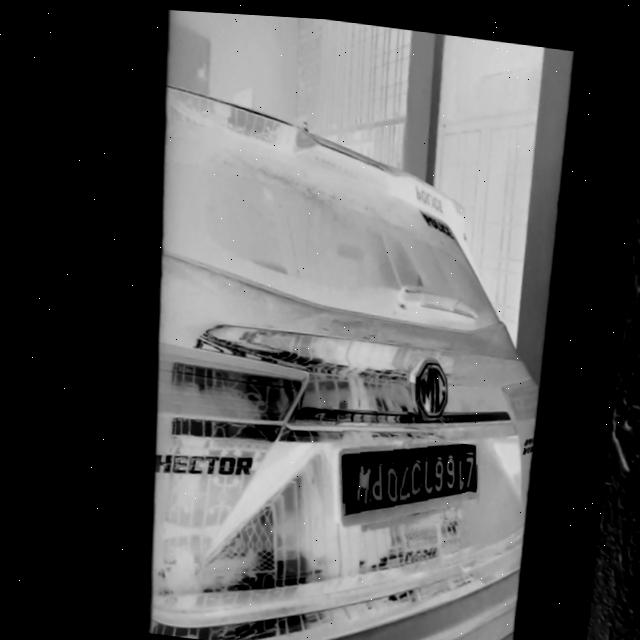0: (378, 460, 393, 497)
1: (449, 450, 461, 487)
6: (438, 452, 451, 486)
7: (456, 448, 473, 487), (391, 456, 405, 498)
9: (427, 453, 441, 488)
C: (403, 455, 418, 492)
IND: (334, 457, 355, 500)
Indian_registered: (337, 438, 471, 511)
J: (416, 453, 430, 491)
M: (348, 458, 368, 501)
P: (363, 459, 379, 498)
